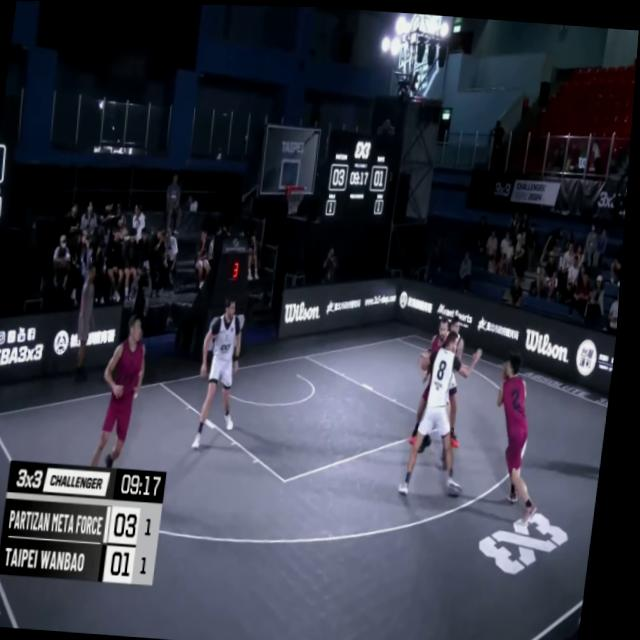ball: (504, 356, 520, 382)
hoop: (285, 179, 309, 217)
player: (408, 330, 487, 502), (495, 347, 562, 523), (96, 309, 156, 471), (411, 316, 483, 449), (197, 294, 258, 450), (435, 314, 475, 430)
